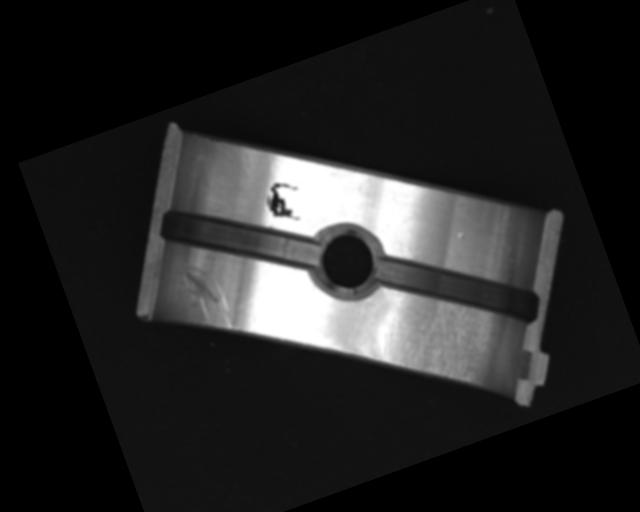blot: (260, 175, 309, 229)
bruise: (455, 229, 468, 241)
gap: (370, 214, 546, 367), (154, 169, 321, 312)
hole: (301, 213, 395, 306)
nick: (175, 253, 236, 341)
scratch: (350, 285, 515, 423)
